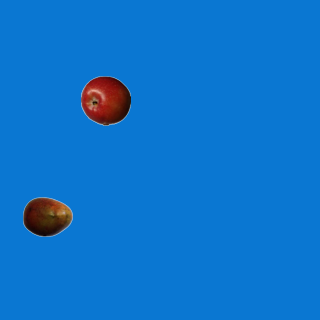Apple Braeburn: (80, 75, 130, 125)
Mango Red: (22, 191, 72, 241)
